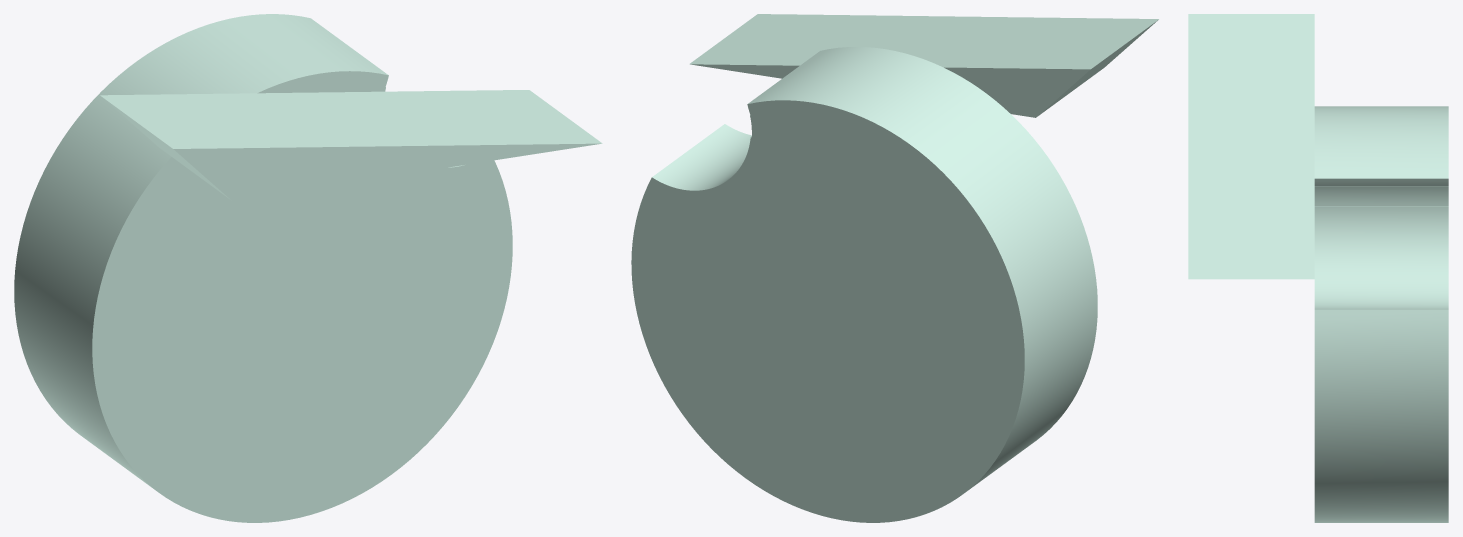
The picture shows the model from 3 angles, left to right: view 1: azimuth 30°, elevation 25°; view 2: azimuth 150°, elevation 25°; view 3: azimuth 270°, elevation 25°; orthographic projection. The views are drawn at different scales.
Parts seen in each view (by area): view 1: Renderer Node; view 2: Renderer Node; view 3: Renderer Node.
Boxes of the visible parts, x1,y1,x2,y2 form: Renderer Node: (14, 14, 602, 522); Renderer Node: (631, 14, 1158, 522); Renderer Node: (1188, 14, 1448, 522).
Size of the model in its own units: 0.8586 by 0.8847 by 0.5156.
